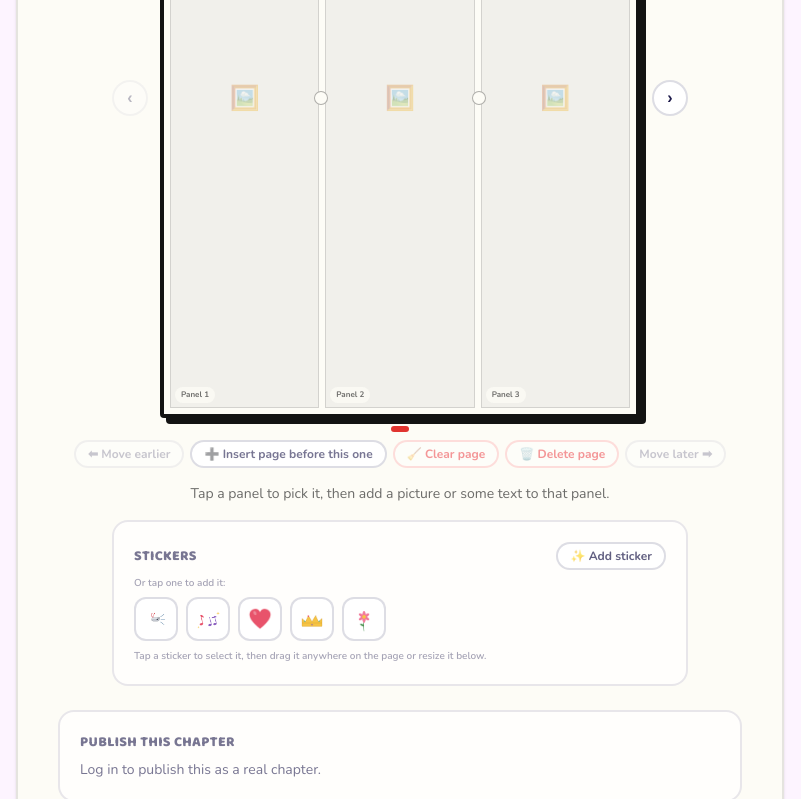
Test: PanelBuilder › tapping a panel reveals the add-bubble and image tools, and adding another bubble keeps the first one
This screenshot has width=801, height=799.
(page scrolled)
Click the text "Panel 1": (195, 395) [175,387,215,403]
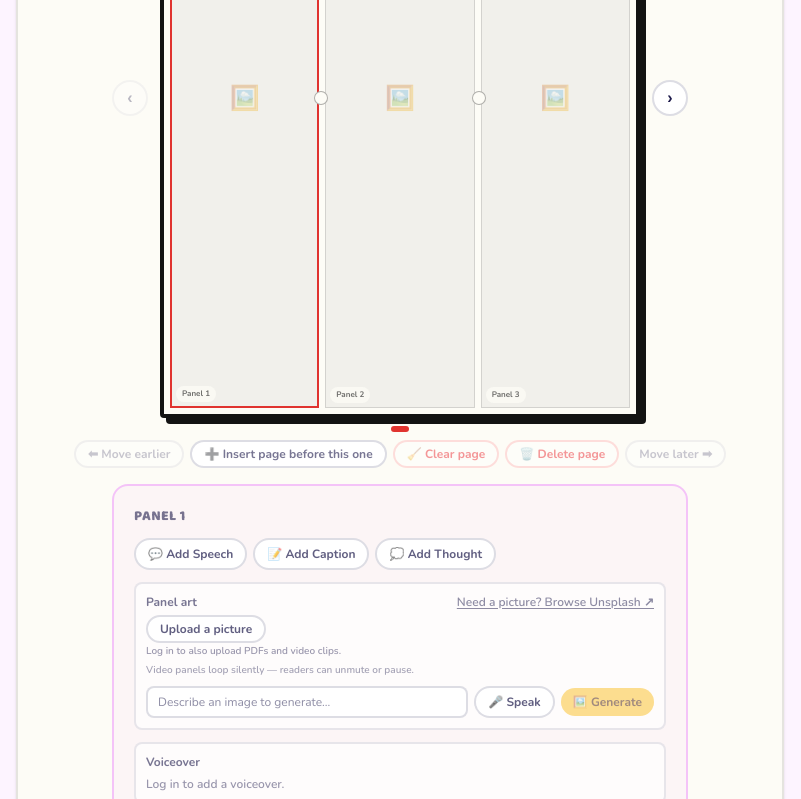
Click the button "💬 Add Speech": (191, 554) [134,538,247,570]
(page scrolled)
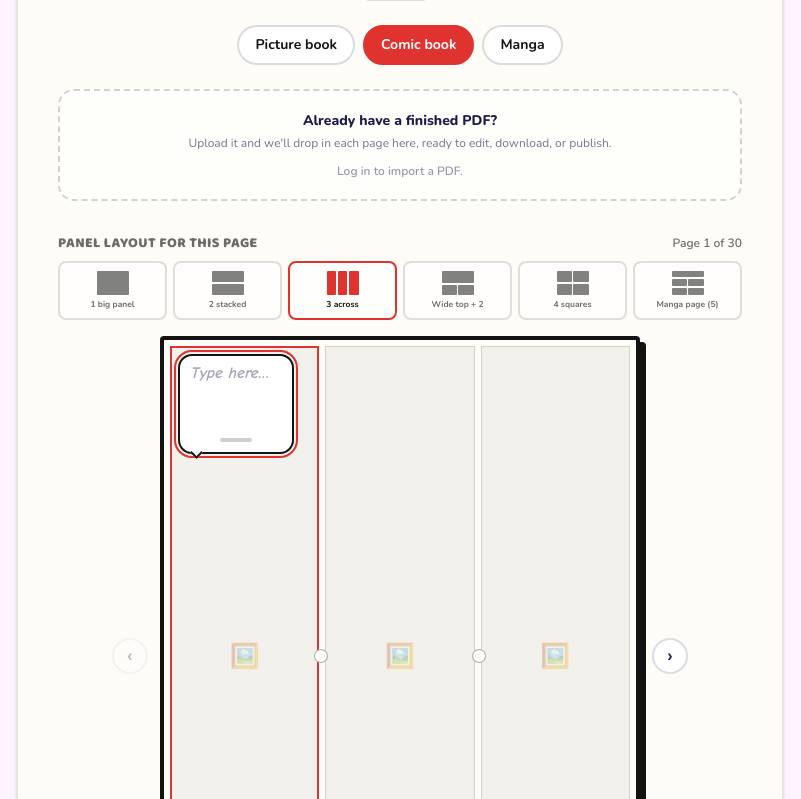
In the text box with placeholder "Type here…": (236, 395) [190,362,282,428], type "The vault door creaks open."
(page scrolled)
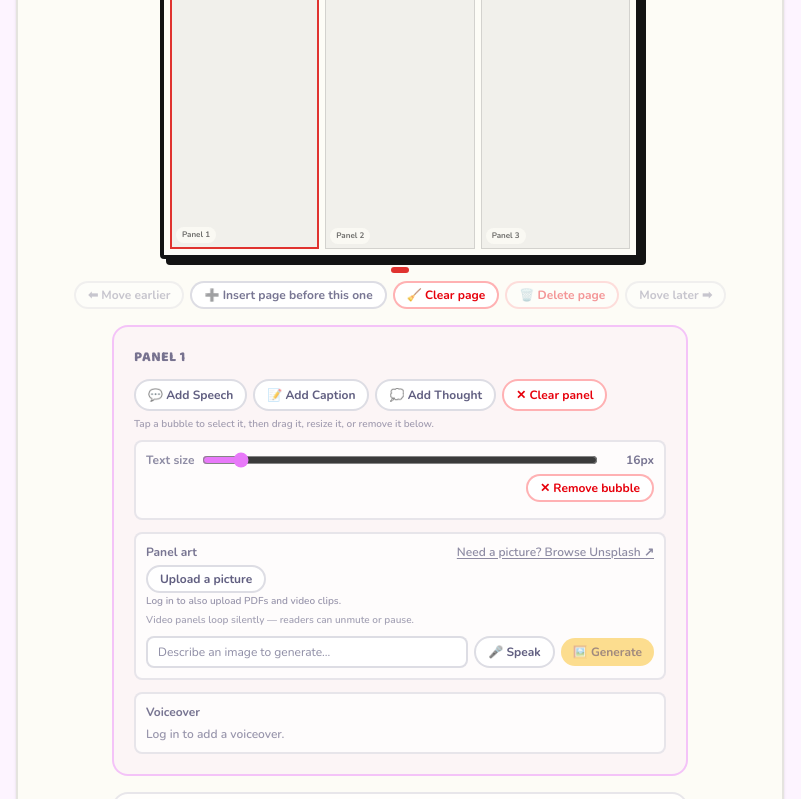
// Adding a caption too adds a second, separate bubble — the speech text stays put.
Click the button "📝 Add Caption": (311, 395) [253,379,370,411]
(page scrolled)
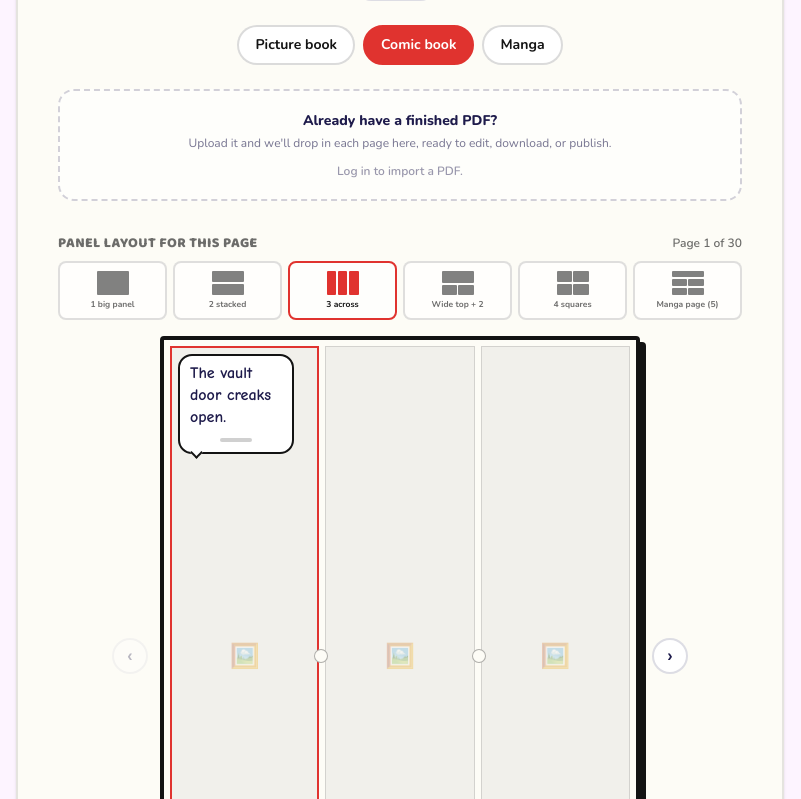
Check: the number of text boxes with placeholder "Type here…" is 2
